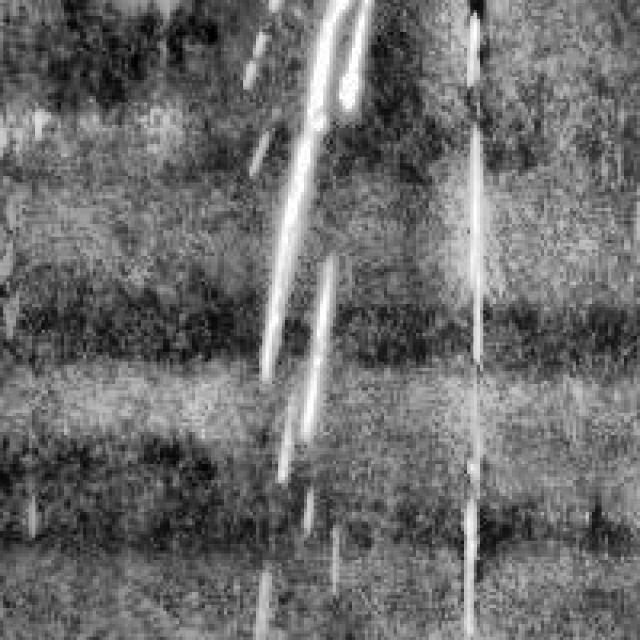Inclusion: (234, 0, 378, 394), (442, 0, 489, 624), (266, 243, 352, 477)
